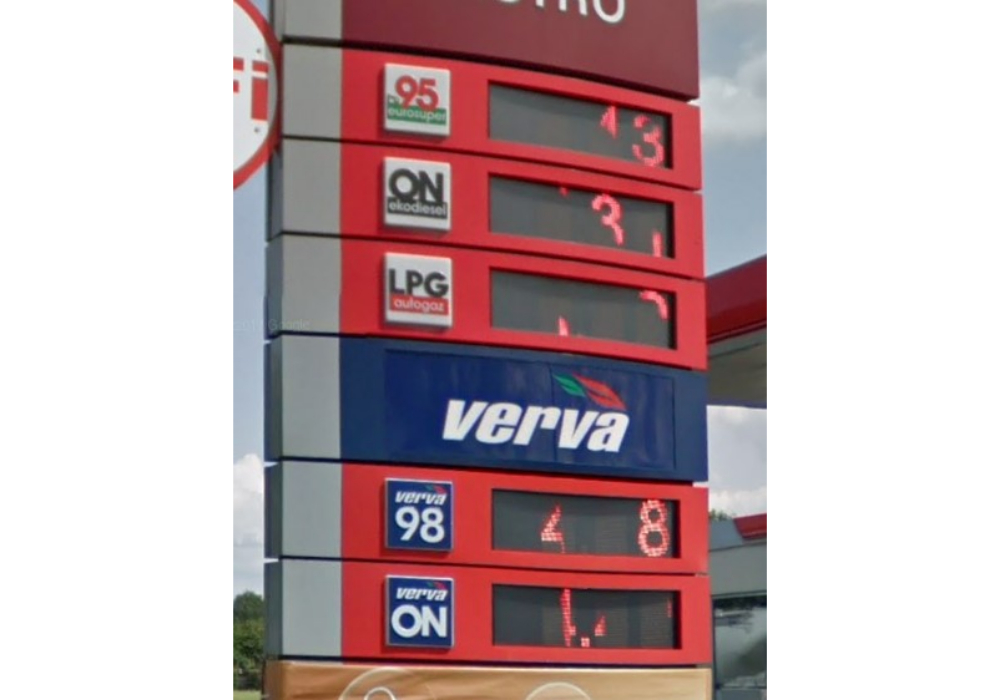LPG: (380, 251, 455, 333)
ON: (379, 570, 457, 650), (378, 154, 454, 230)
PB95: (379, 62, 455, 141)
PB98: (382, 477, 454, 554)
